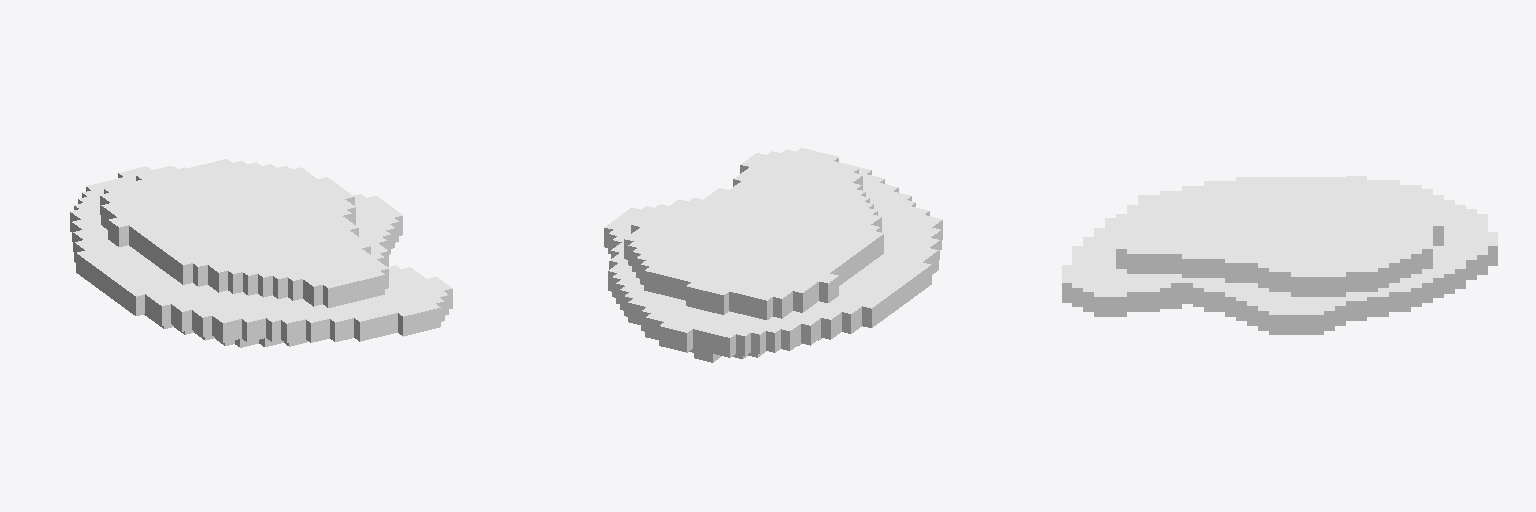
File: felho.obj
3 renders of one model, left to right at view 1: azimuth 30°, elevation 25°; view 2: azimuth 150°, elevation 25°; view 3: azimuth 270°, elevation 25°, orthographic.
Parts seen in each view (by area): view 1: felho; view 2: felho; view 3: felho.
Part boxes in pixels (left/top/right/bottom): felho: left=70, top=159, right=452, bottom=347; felho: left=604, top=148, right=942, bottom=362; felho: left=1062, top=176, right=1497, bottom=334.
Size of the model in its own units: 30 by 6 by 40.